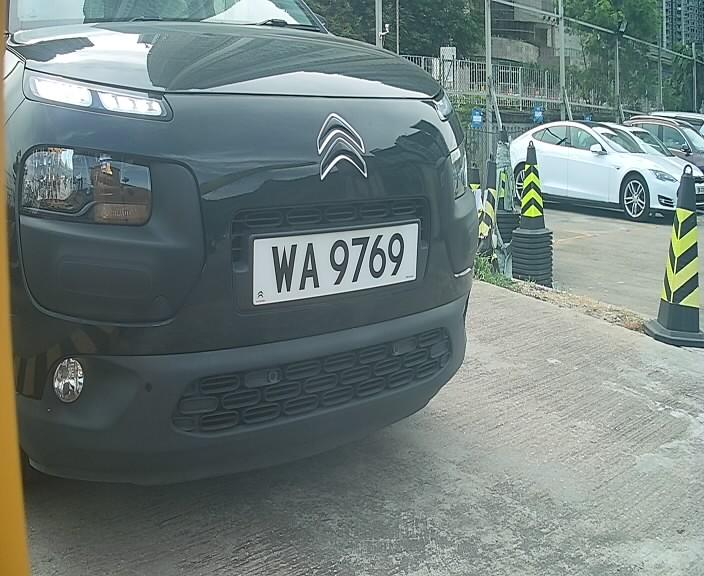License Plate: (249, 217, 419, 312)
